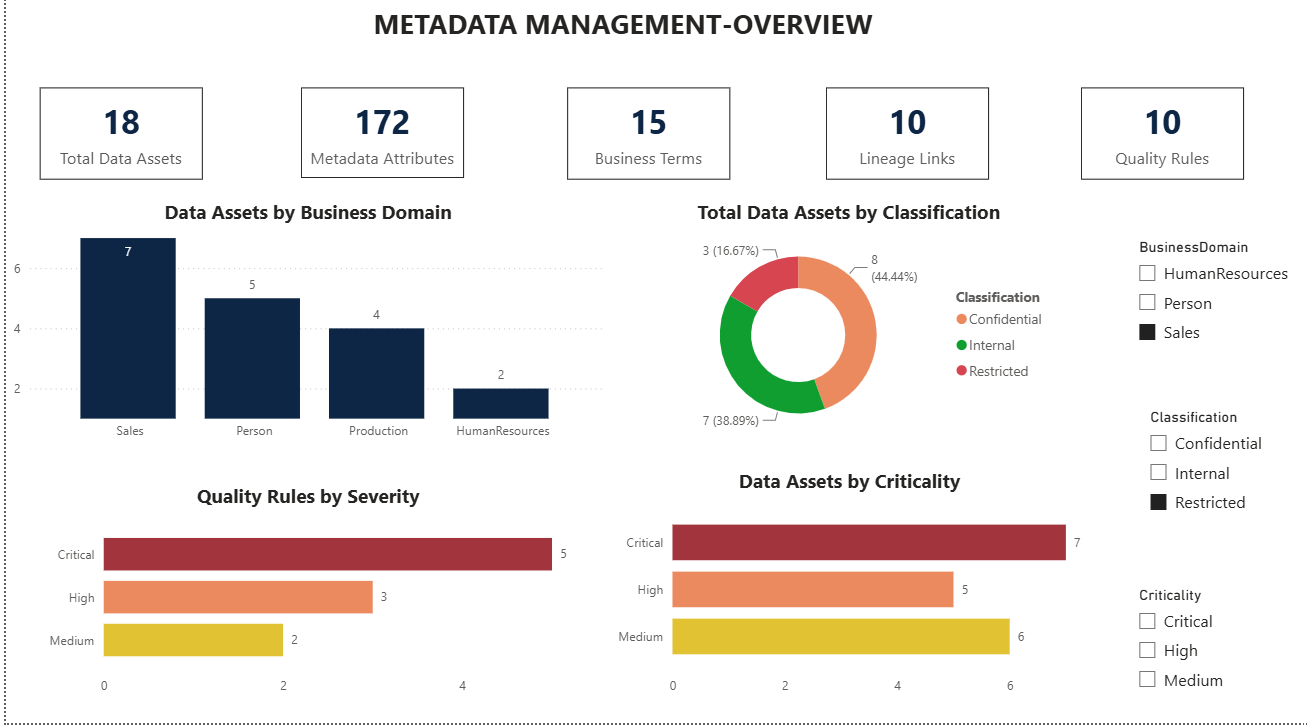

This screenshot's page, from the dashboard's own definition file:
{"tool":"powerbi","page":{"name":"Metadata Management","canvas":[1280,720],"ordinal":0},"visuals":[{"type":"card","fields":{"Values":["DataAsset.Total Data Assets"]},"box":[33.5,96.1,160.1,90.3],"z":0},{"type":"card","fields":{"Values":["vw_MetadataExecutiveSummary.Metadata Attributes"]},"box":[289.7,96.1,160.1,88.8],"z":1000},{"type":"card","fields":{"Values":["vw_BusinessGlossarySummary.Business Terms"]},"box":[550.3,96.1,160.1,90.3],"z":2000},{"type":"card","fields":{"Values":["vw_DataLineageSummary.Lineage Links"]},"box":[805.1,96.1,160.1,90.3],"z":3000},{"type":"card","fields":{"Values":["vw_DataQualitySummary.Quality Rules"]},"box":[1055.5,96.1,160.1,90.3],"z":4000},{"type":"clusteredColumnChart","title":" Data Assets by Business Domain","fields":{"Category":["DataAsset.BusinessDomain"],"Y":["DataAsset.Total Data Assets"]},"box":[2.9,205.3,588.2,246],"z":5000},{"type":"donutChart","fields":{"Y":["DataAsset.Total Data Assets"],"Category":["DataAsset.Classification"]},"box":[618.8,205.3,417.8,243.1],"z":6000},{"type":"clusteredBarChart","title":" Data Assets by Criticality","fields":{"Category":["DataAsset.Criticality"],"Y":["DataAsset.Total Data Assets"]},"box":[591.1,468.8,473.2,232.9],"z":7000},{"type":"clusteredBarChart","fields":{"Category":["vw_DataQualitySummary.Severity"],"Y":["vw_DataQualitySummary.Quality Rules"]},"box":[33.5,483.4,527,218.4],"z":8000},{"type":"slicer","fields":{"Values":["vw_DataAssetSummary.BusinessDomain"]},"box":[1099.2,238.8,166,147],"z":9000},{"type":"slicer","fields":{"Values":["vw_DataAssetSummary.Classification"]},"box":[1110.8,406.2,136.9,125.2],"z":10000},{"type":"slicer","fields":{"Values":["DataAsset.Criticality"]},"box":[1099.2,580.9,116.5,120.8],"z":11000},{"type":"textbox","box":[100.5,10.2,1010.4,55.3],"z":12000}]}

Visuals, with their boxes in screenshot pixels (x1, y1, x2, y2), scaled from the page's 1280x720 canvas onto the 1307x728 screenshot:
card - DataAsset.Total Data Assets: 34:97:198:188
card - vw_MetadataExecutiveSummary.Metadata Attributes: 296:97:459:187
card - vw_BusinessGlossarySummary.Business Terms: 562:97:725:188
card - vw_DataLineageSummary.Lineage Links: 822:97:986:188
card - vw_DataQualitySummary.Quality Rules: 1078:97:1241:188
" Data Assets by Business Domain" clusteredColumnChart: 3:208:604:456
donutChart - DataAsset.Total Data Assets x DataAsset.Classification: 632:208:1058:453
" Data Assets by Criticality" clusteredBarChart: 604:474:1087:709
clusteredBarChart - vw_DataQualitySummary.Severity x vw_DataQualitySummary.Quality Rules: 34:489:572:710
slicer - vw_DataAssetSummary.BusinessDomain: 1122:241:1292:390
slicer - vw_DataAssetSummary.Classification: 1134:411:1274:537
slicer - DataAsset.Criticality: 1122:587:1241:709
textbox: 103:10:1134:66
